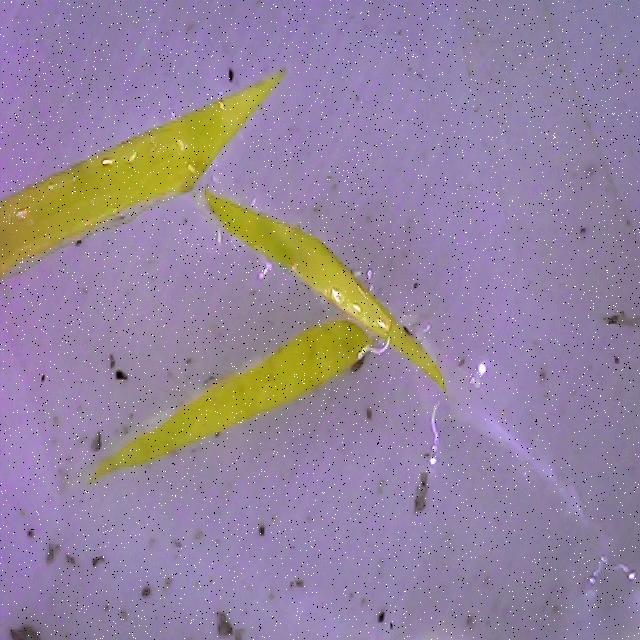fragments: (0, 68, 312, 278), (195, 166, 471, 398), (82, 305, 378, 506)
